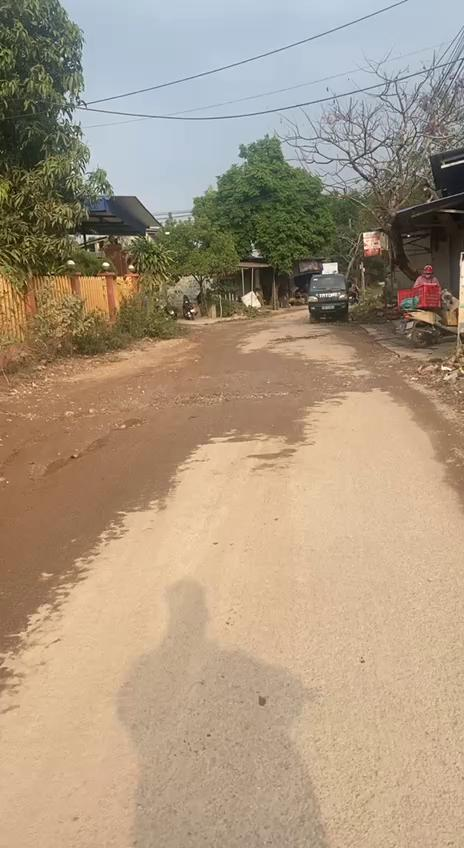pothole: (174, 387, 290, 407)
